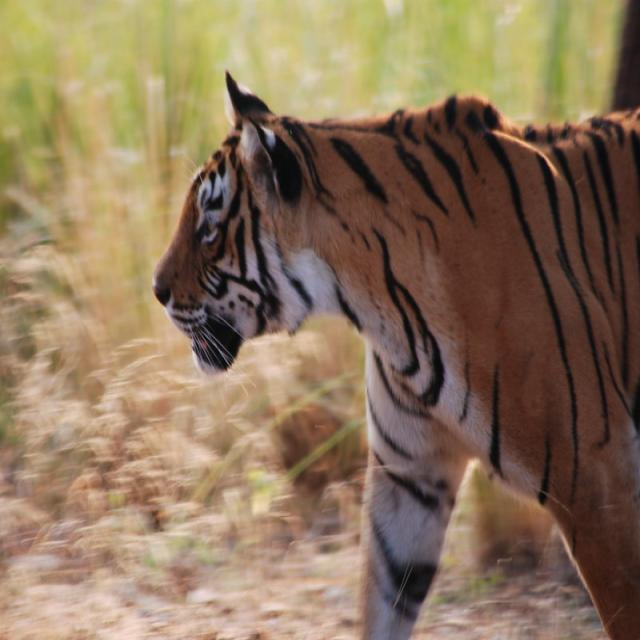Tiger: (148, 62, 638, 635)
